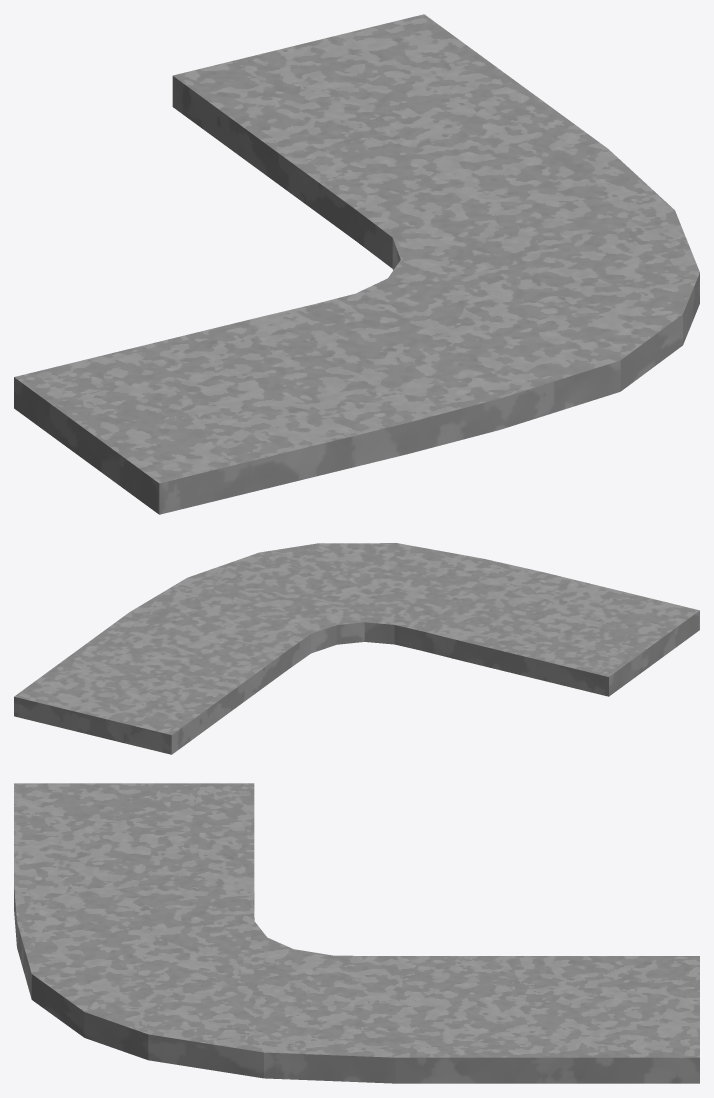
Rendered from 4M_Curved_Path_Asset.fbx.
The picture shows the model from 3 angles, top to bottom: view 1: azimuth 30°, elevation 25°; view 2: azimuth 150°, elevation 25°; view 3: azimuth 270°, elevation 25°; orthographic projection. The views are drawn at different scales.
Visible parts, largest first — view 1: Box001; view 2: Box001; view 3: Box001.
Part boxes in pixels (<box>): Box001: <box>14,14,699,514</box>; Box001: <box>14,543,699,754</box>; Box001: <box>14,783,699,1083</box>.
Bounding box in the file's own units: 149 × 6.56 × 157.
1 material, 1 textured.
